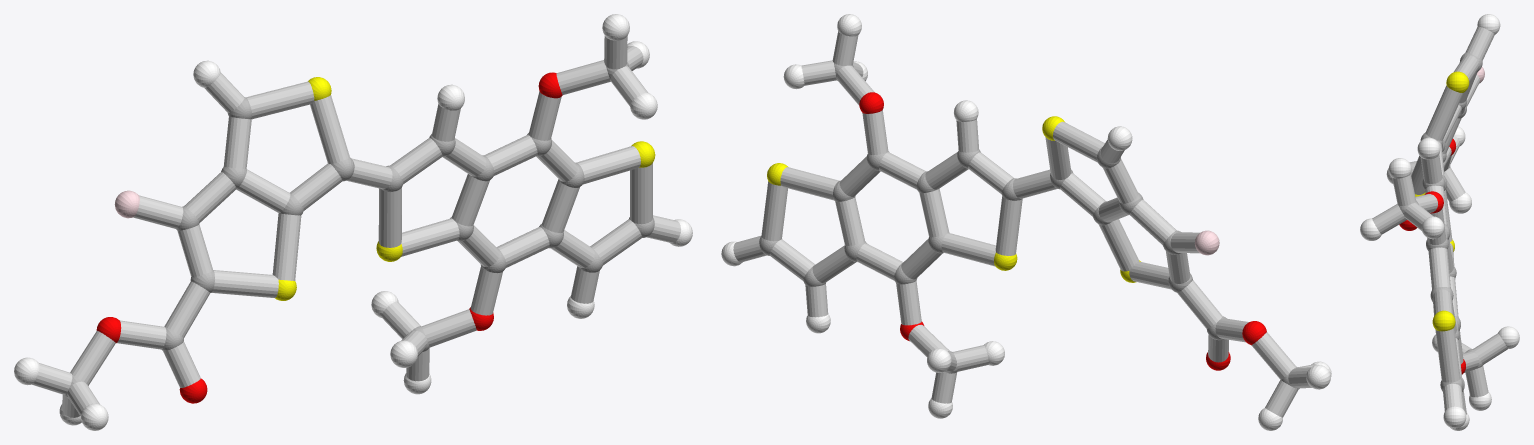
The model's file is Dimethoxy_Benzodithiophene_Phi_25_Theta_20_Methylcarbonyl_3_Fluoro_Thienothiophene.glb.
3 views of the same model, side by side, from view 1: azimuth 30°, elevation 25°; view 2: azimuth 150°, elevation 25°; view 3: azimuth 270°, elevation 25° (orthographic). The views are drawn at different scales.
Parts seen in each view (by area): view 1: grp15205, grp8689, grp1, grp13395, grp7241; view 2: grp15205, grp8689, grp1, grp13395, grp7241; view 3: grp15205, grp8689, grp1, grp7241, grp13395.
Boxes of the visible parts, x1,y1,x2,y2 form: grp15205: (32,36,680,417); grp8689: (14,14,692,430); grp1: (64,61,654,398); grp13395: (96,72,562,403); grp7241: (275,77,655,300); grp15205: (733,31,1316,417); grp8689: (721,14,1331,430); grp1: (759,63,1299,389); grp13395: (859,92,1266,370); grp7241: (767,116,1140,282); grp15205: (1372,26,1507,414); grp8689: (1360,14,1519,430); grp1: (1398,52,1482,391); grp7241: (1415,71,1469,331); grp13395: (1399,139,1465,374).
Size of the model in its own units: 16.89 by 9.01 by 4.18.
